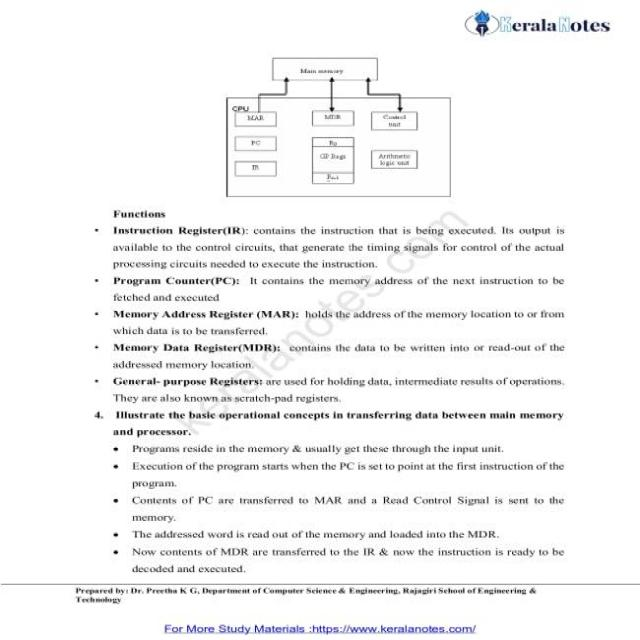Figure Detection - v3 Dataset Version2: (211, 50, 472, 206)
